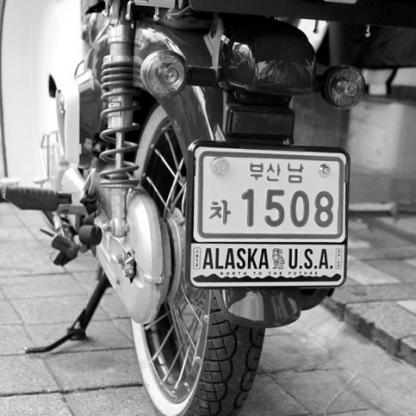bnum: (182, 136, 352, 243)
